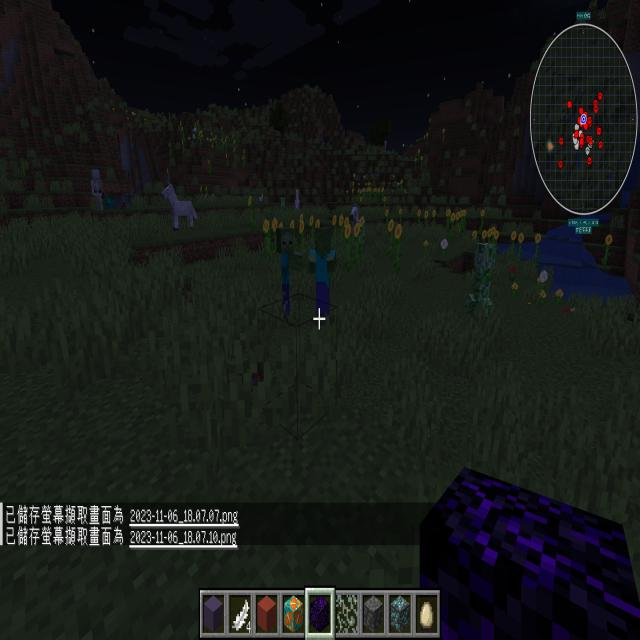Creeper: (464, 239, 498, 321), (280, 195, 287, 216)
Skeleton: (88, 164, 107, 222), (383, 139, 389, 154)
Zombie: (272, 225, 304, 327), (307, 224, 338, 325), (100, 186, 120, 218)
